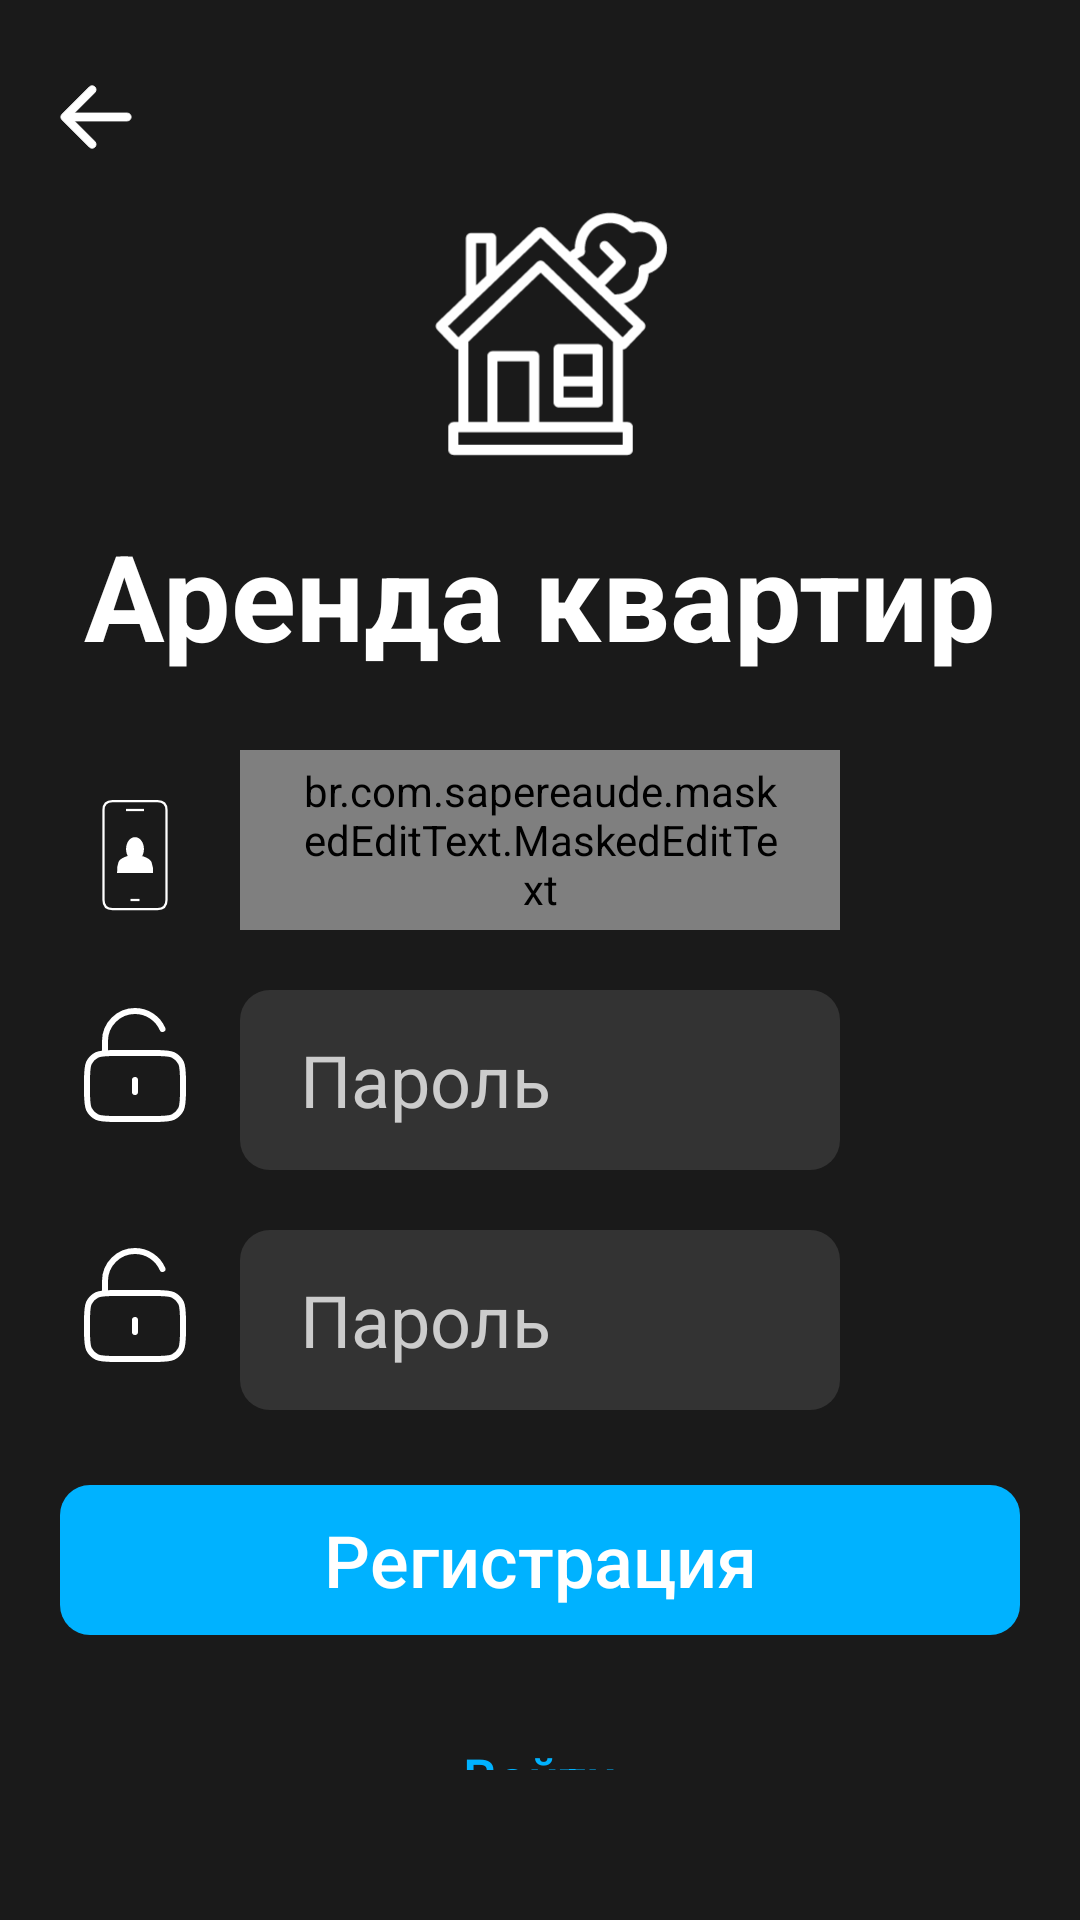

Where icons sit on this 1080×1920 app screen, as (x1, y1, x2, y2):
Номер телефона: (102, 800, 168, 911)
